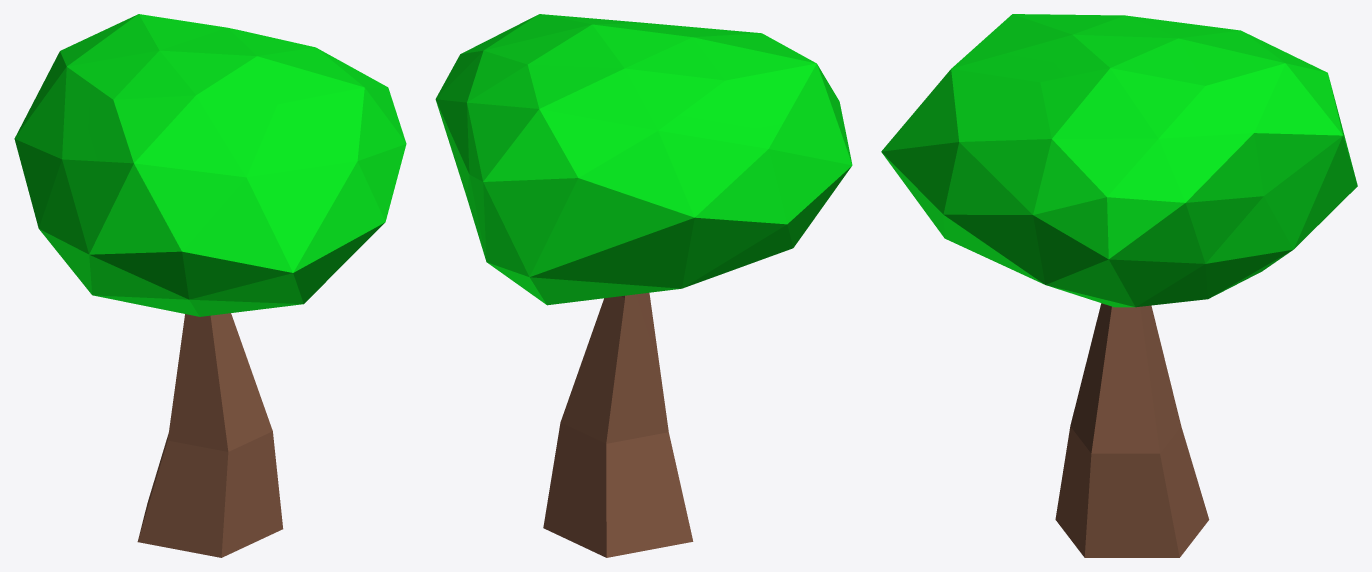
Rendered from tree.glb.
3 views of the same model, side by side, from view 1: azimuth 30°, elevation 25°; view 2: azimuth 150°, elevation 25°; view 3: azimuth 270°, elevation 25° (orthographic). The views are drawn at different scales.
Visible parts, largest first — view 1: top, trunk; view 2: top, trunk; view 3: top, trunk.
Boxes of the visible parts, left/top/right/bottom form: top: left=14, top=14, right=406, bottom=316; trunk: left=137, top=313, right=283, bottom=557; top: left=435, top=14, right=852, bottom=305; trunk: left=543, top=293, right=693, bottom=557; top: left=881, top=14, right=1357, bottom=307; trunk: left=1055, top=303, right=1209, bottom=557.
Bounding box in the file's own units: 5.17 × 6.59 × 5.89.
